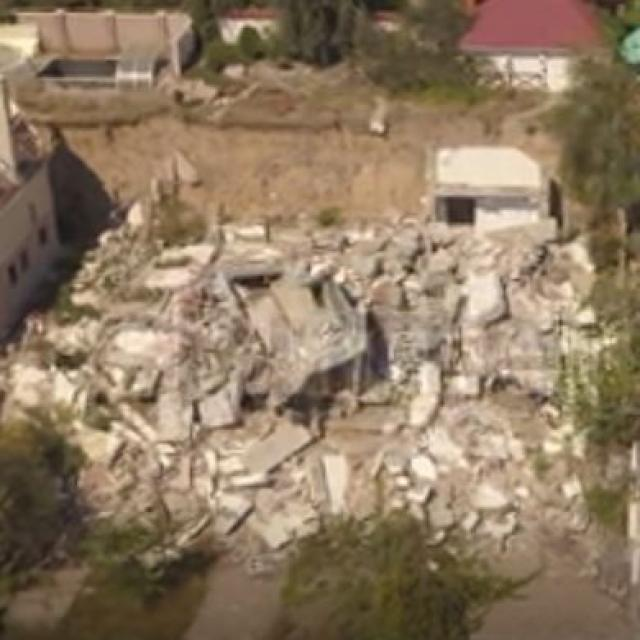collapsed_building: (5, 218, 586, 543)
